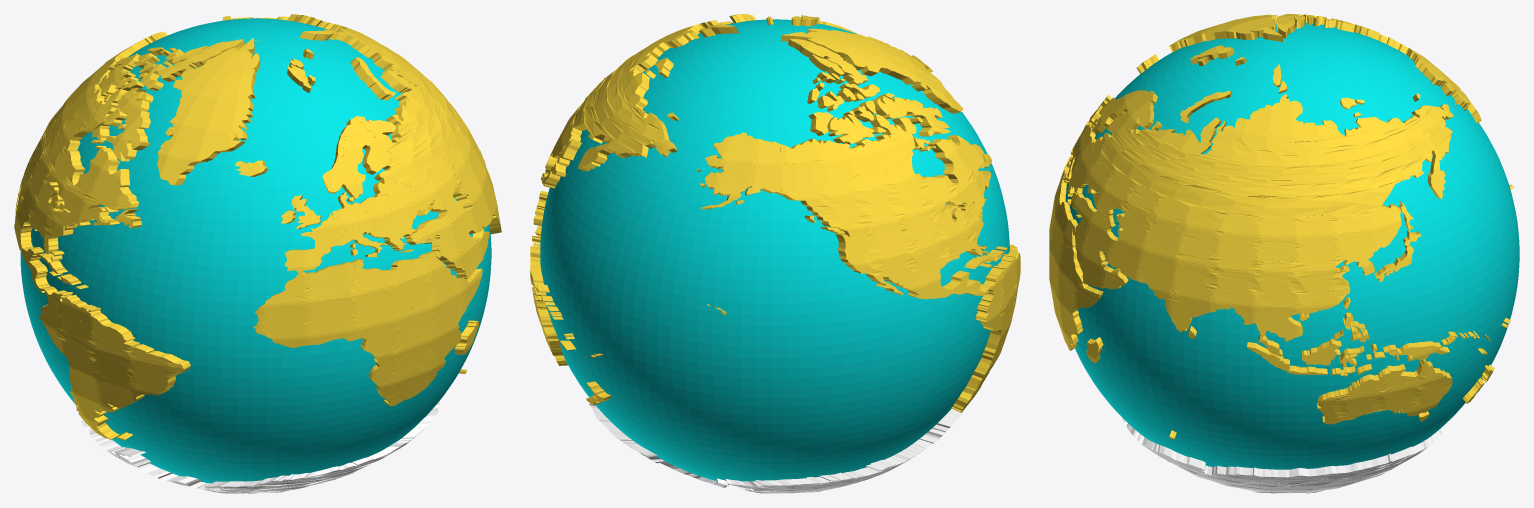
The model's file is Globe3D.fbx.
The picture shows the model from 3 angles, left to right: view 1: azimuth 30°, elevation 25°; view 2: azimuth 150°, elevation 25°; view 3: azimuth 270°, elevation 25°; orthographic projection.
Parts seen in each view (by area): view 1: Plane, CA, RU, GL, BR, AQ, US, DZ, AR, LY, KZ, CD (+25 smaller); view 2: Plane, CA, US, RU, GL, AQ, MX, CL, AU, CO, BR; view 3: Plane, RU, CN, AQ, AU, KZ, IN, ID, MN, GL, CA, US (+11 smaller).
Boxes of the visible parts, <box> form: Plane: <box>20,18,491,483</box>; CA: <box>41,39,244,228</box>; RU: <box>222,14,466,211</box>; GL: <box>157,37,260,185</box>; BR: <box>55,319,190,406</box>; AQ: <box>81,401,439,493</box>; US: <box>20,32,167,253</box>; DZ: <box>289,261,371,310</box>; AR: <box>73,370,119,439</box>; LY: <box>361,259,416,293</box>; KZ: <box>446,125,480,199</box>; CD: <box>375,316,438,356</box>; Plane: <box>540,19,1009,481</box>; CA: <box>780,39,991,233</box>; US: <box>697,132,986,314</box>; RU: <box>552,14,775,171</box>; GL: <box>780,28,963,113</box>; AQ: <box>588,402,963,493</box>; MX: <box>867,270,969,299</box>; CL: <box>951,327,1003,412</box>; AU: <box>532,286,567,365</box>; CO: <box>981,267,1008,303</box>; BR: <box>999,244,1020,316</box>; Plane: <box>1065,23,1519,469</box>; RU: <box>1092,57,1453,250</box>; CN: <box>1175,218,1385,320</box>; AQ: <box>1122,417,1441,493</box>; AU: <box>1317,359,1452,424</box>; KZ: <box>1113,193,1225,250</box>; IN: <box>1151,268,1256,332</box>; ID: <box>1247,342,1420,376</box>; MN: <box>1227,227,1337,261</box>; GL: <box>1169,14,1282,52</box>; CA: <box>1276,14,1425,58</box>; US: <box>1408,50,1514,189</box>.
Bounding box in the file's own units: 230 × 223 × 221.
